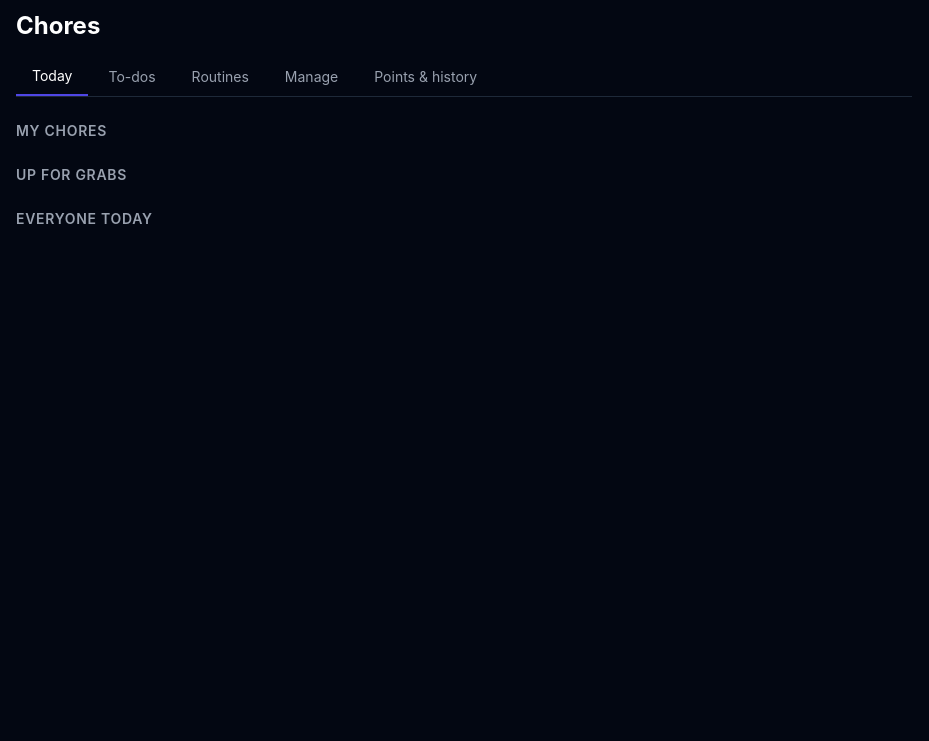
Test case: Manage › shows why a save failed, and cancel closes the form
Click the tab "Manage".
click(312, 77)  # box [269,58,354,96]
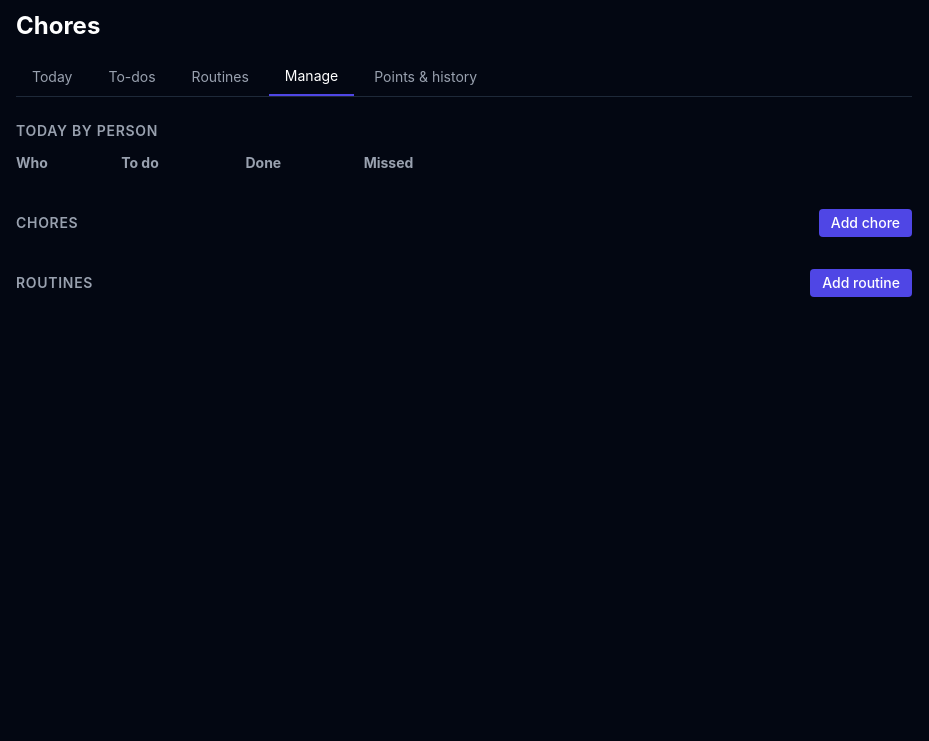
Click the button "Add chore".
click(865, 223)  # box [819,209,912,237]
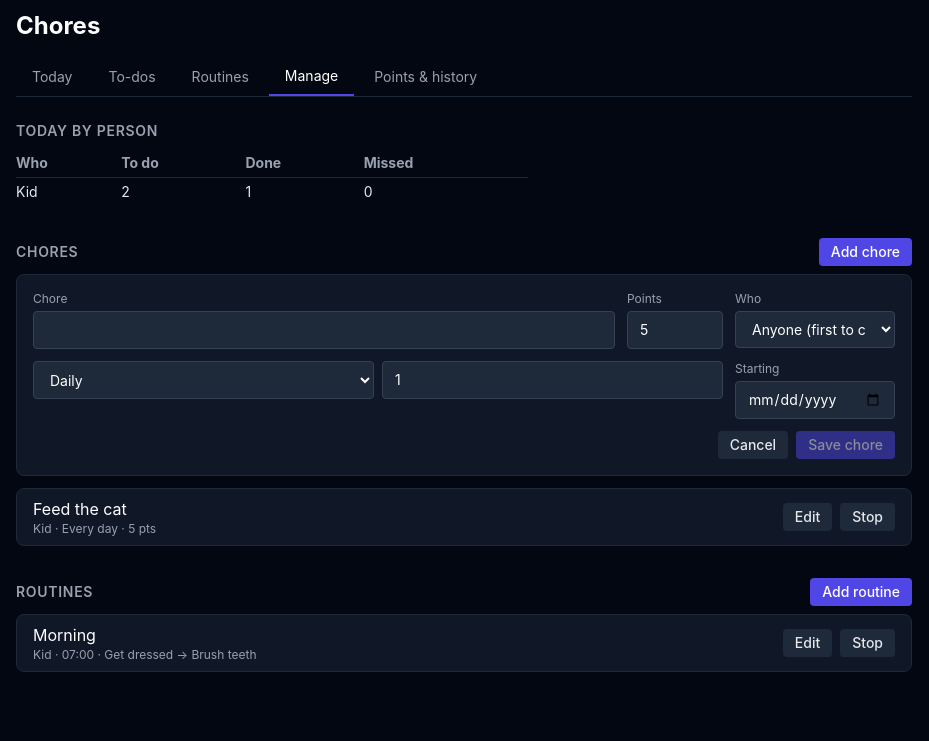
Type "x" into the field labelled "Chore".
click(324, 330); type("x")  # box [33,311,615,349]
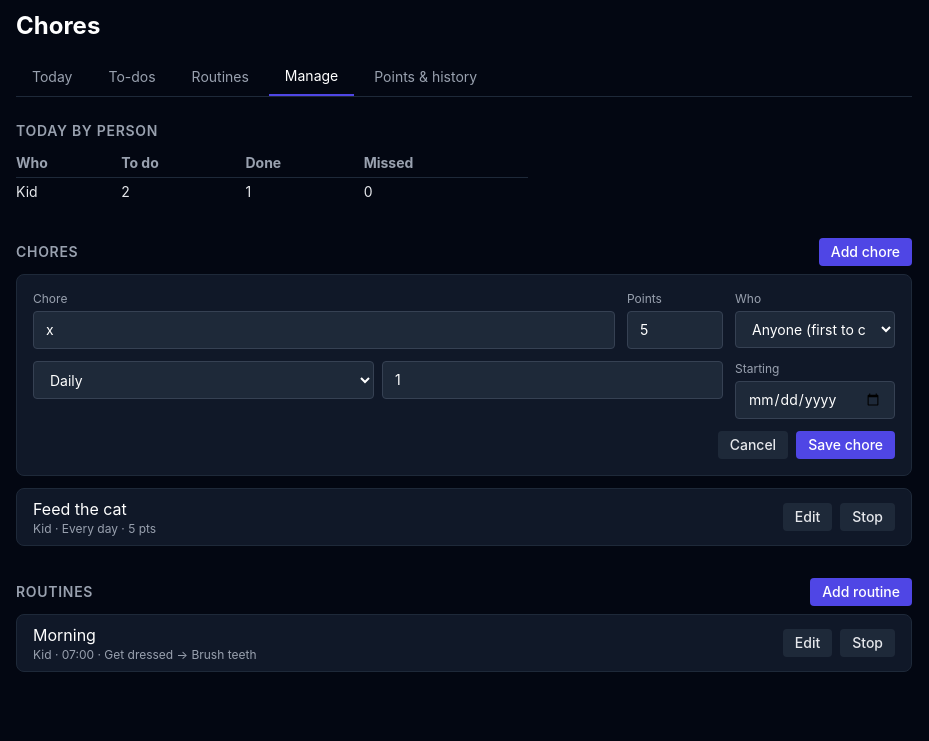
Click the button "Save chore".
click(846, 445)  # box [796,431,895,459]
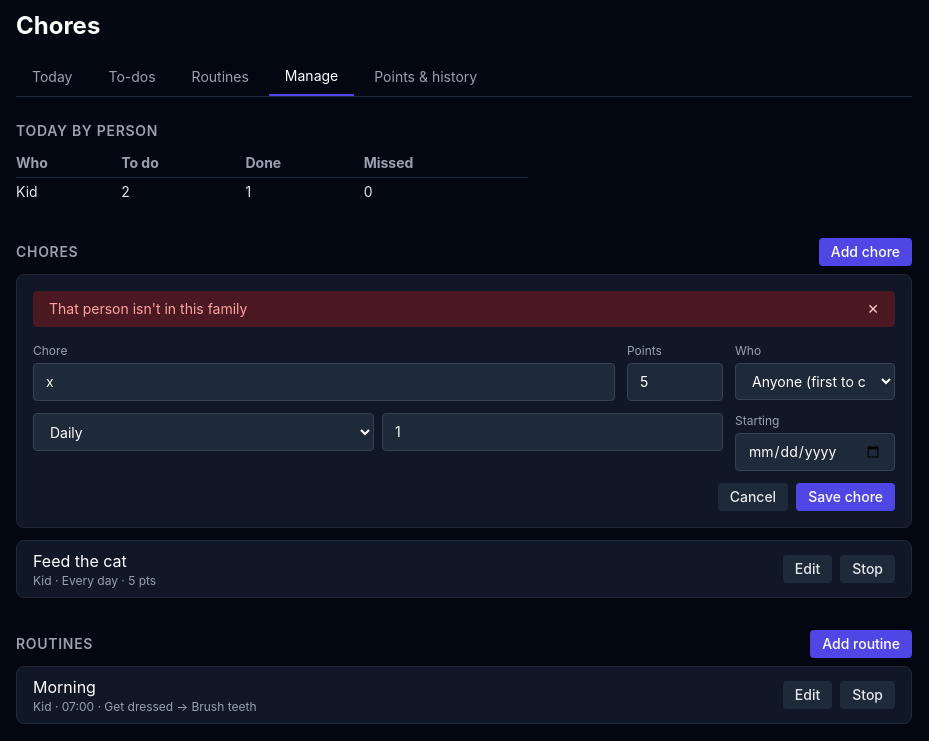
Expected: the text "That person isn't in this family" is shown, [49,299,248,319]
Click the button "Cancel".
click(753, 497)  # box [718,483,788,511]
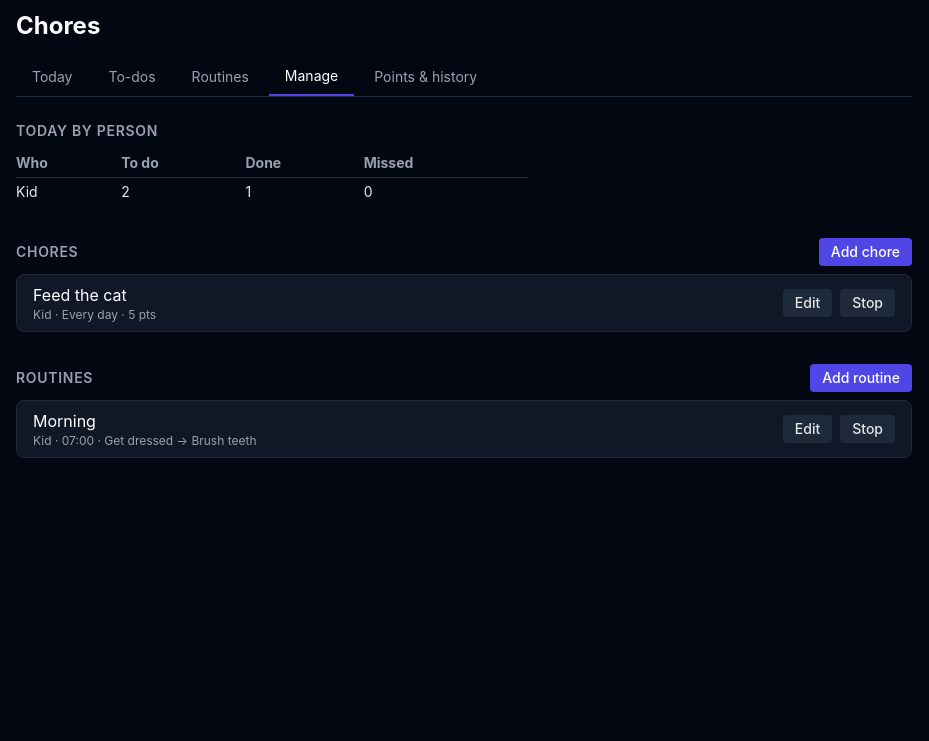
Expected: the form "New chore" is gone
